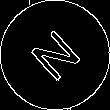N_SE: (23, 23, 87, 87)
